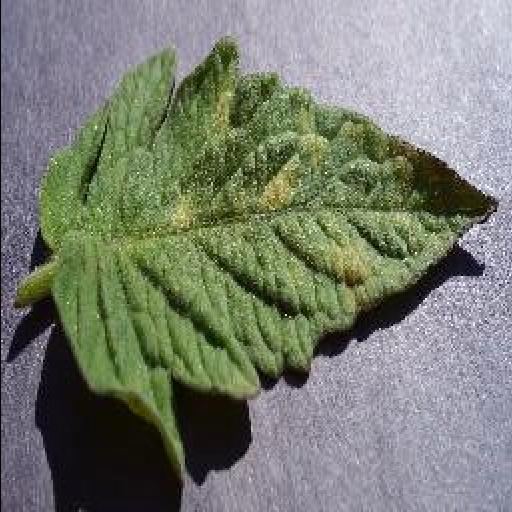disease_tomato: (32, 40, 500, 470)
